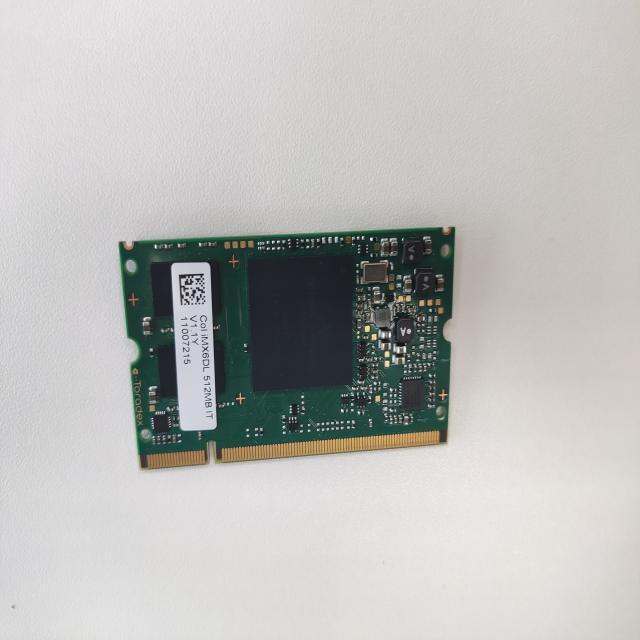som: (102, 226, 471, 478)
